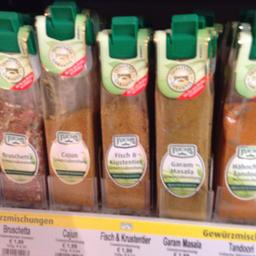spices: (33, 12, 97, 210), (151, 28, 215, 220), (98, 28, 148, 212), (0, 25, 46, 207)
